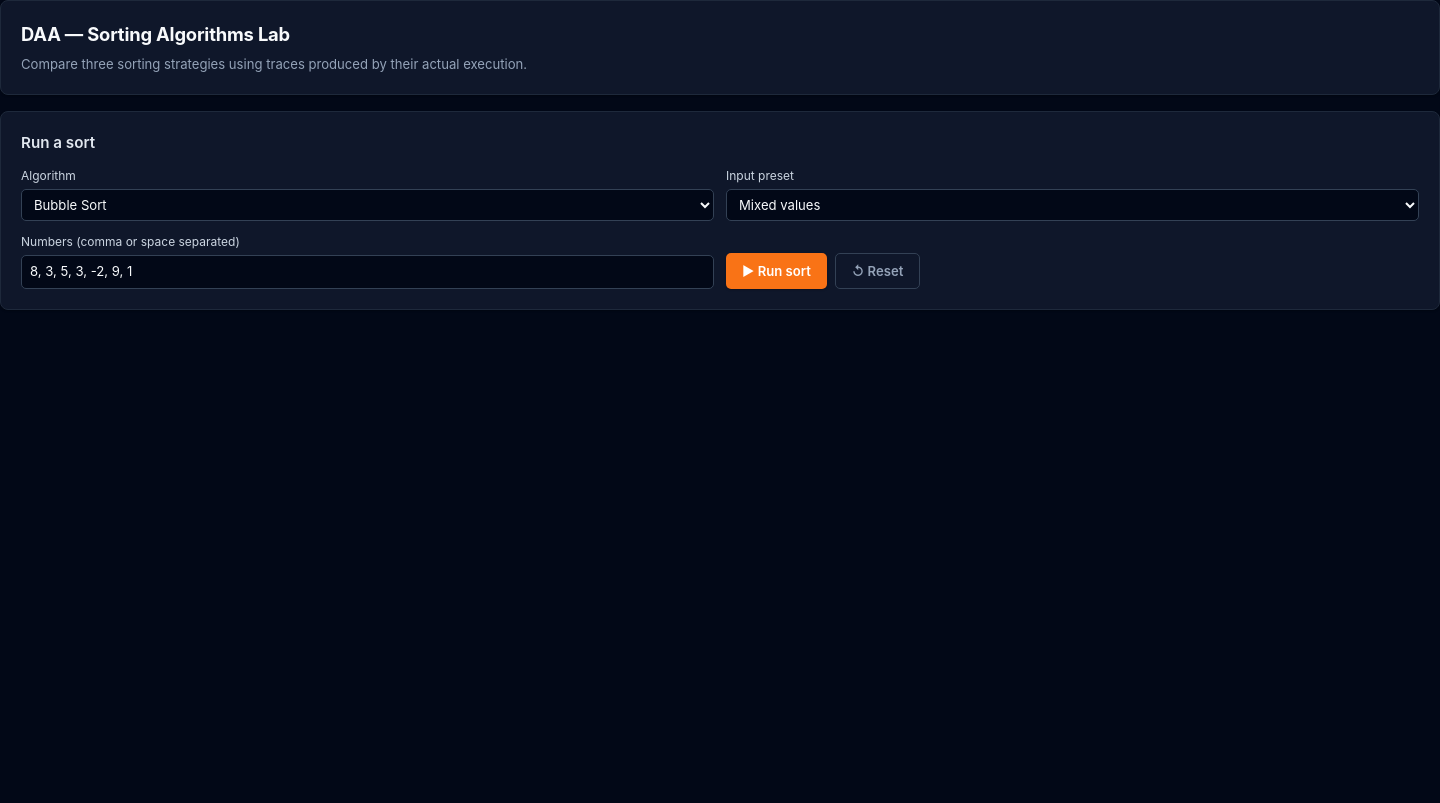
SortingLab › runs merge sort and shows result and operation evidence
Select "Merge Sort" in the dropdown named "Sorting algorithm" at coordinates (368, 205), box [21,189,714,221]
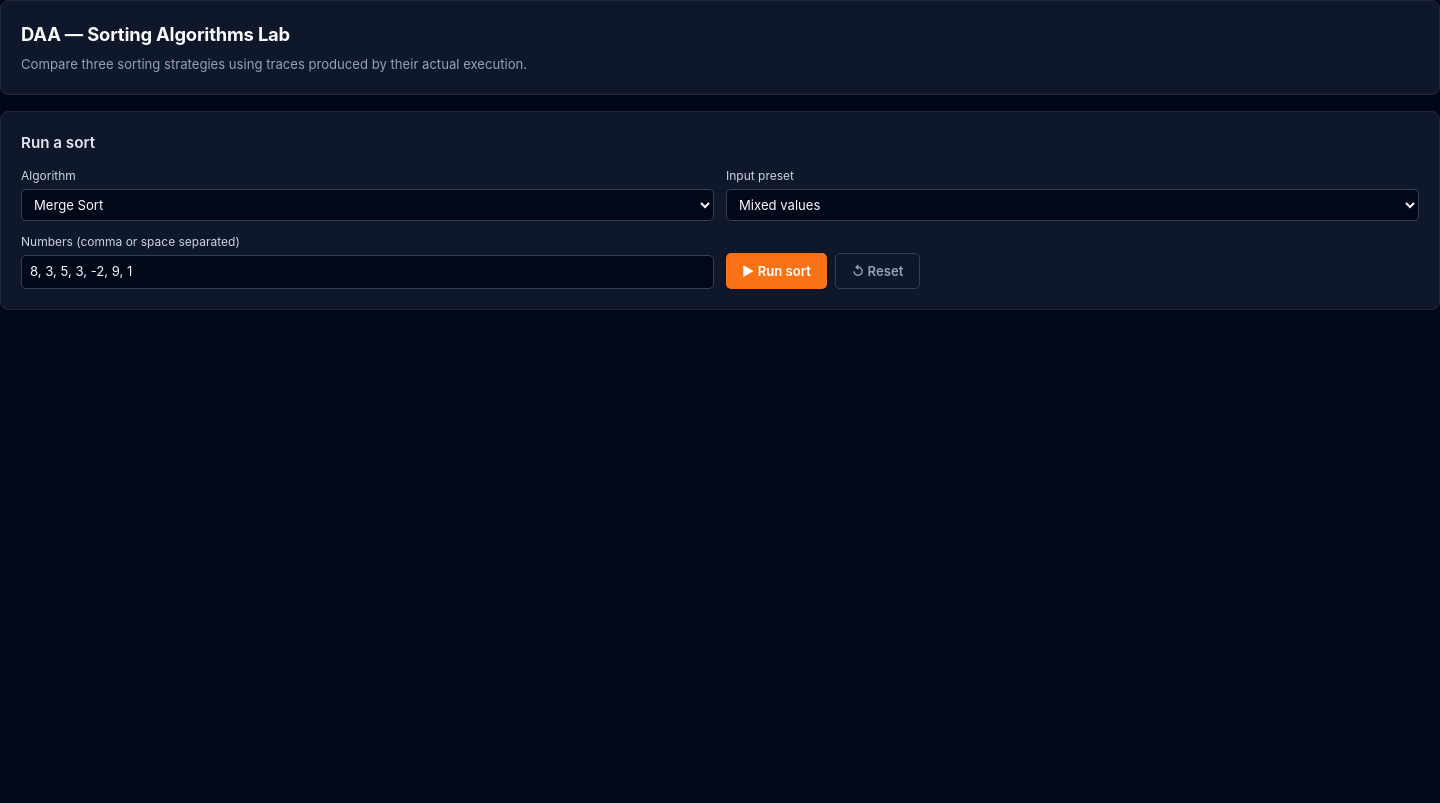
Replace the text in the field named "Numeric input" with "3, 1, 2, 1" at coordinates (368, 272), box [21,255,714,289]
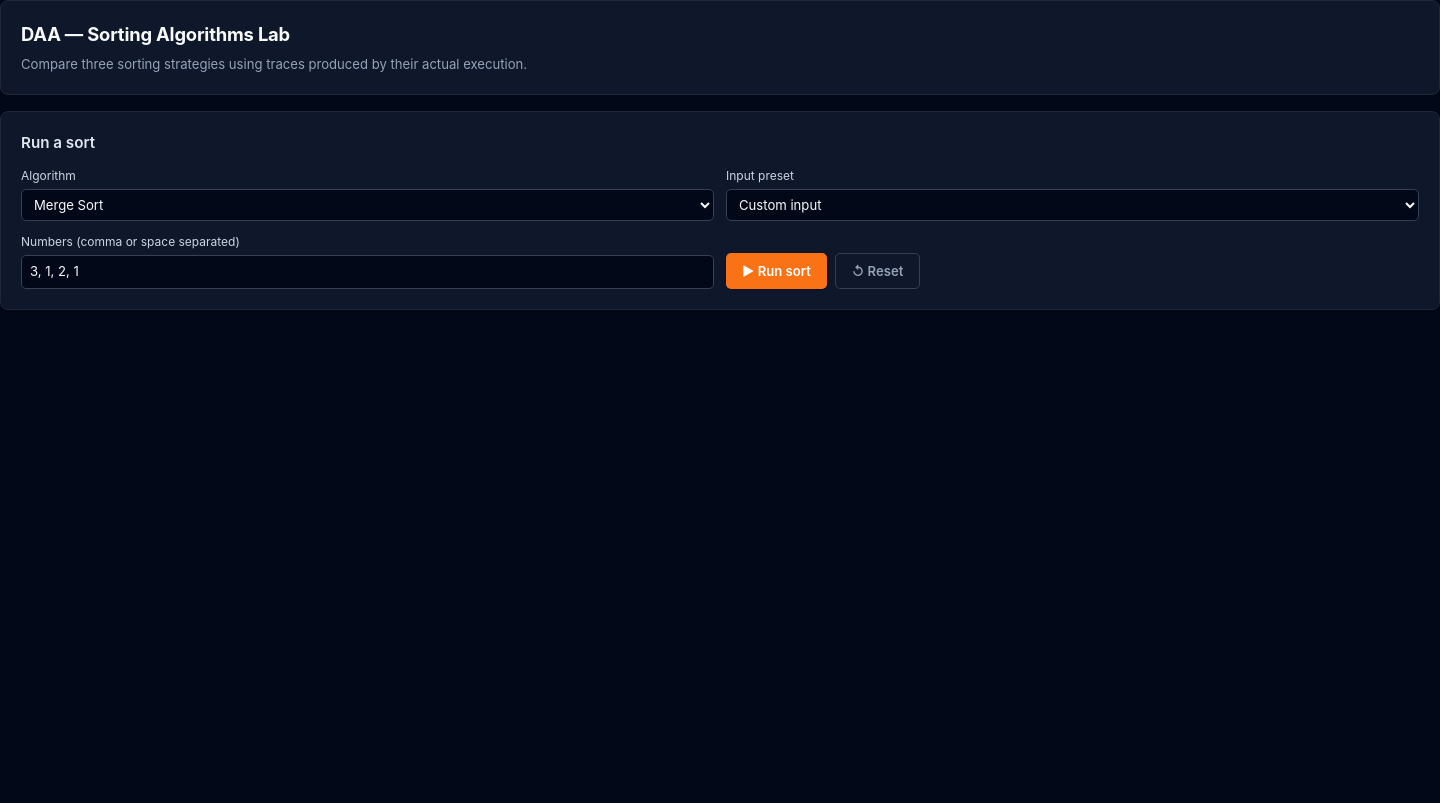
Click the button "▶ Run sort" at coordinates (776, 271), box [726,253,827,289]
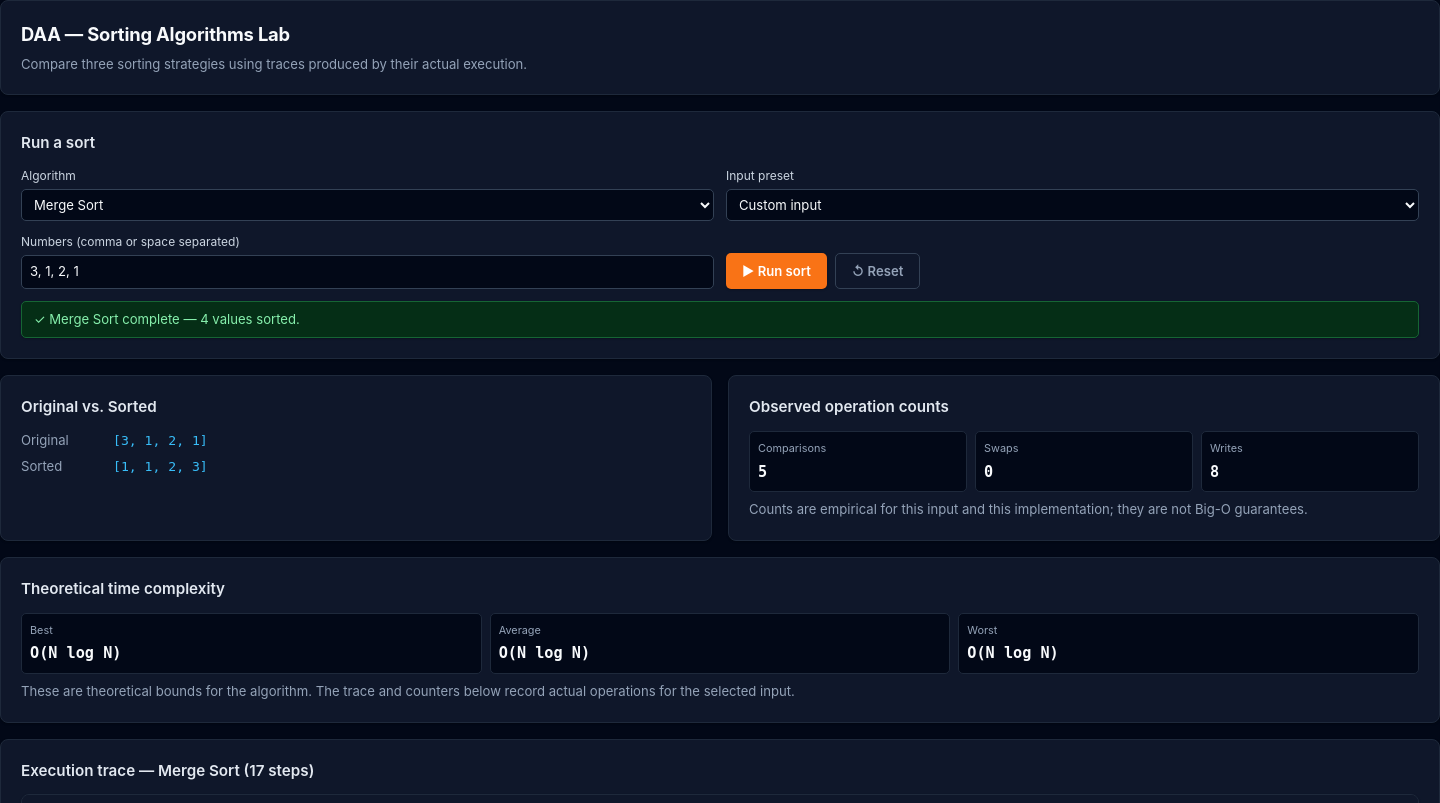
Result: the element "Original vs. Sorted" shows "[3, 1, 2, 1]" at [113,433,208,448]
Result: the element "Original vs. Sorted" shows "[1, 1, 2, 3]" at [113,459,208,474]
Result: the element "Observed operation counts" shows "5" at [758,462,767,480]
